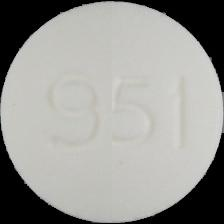0615-1576: (0, 0, 224, 224)
